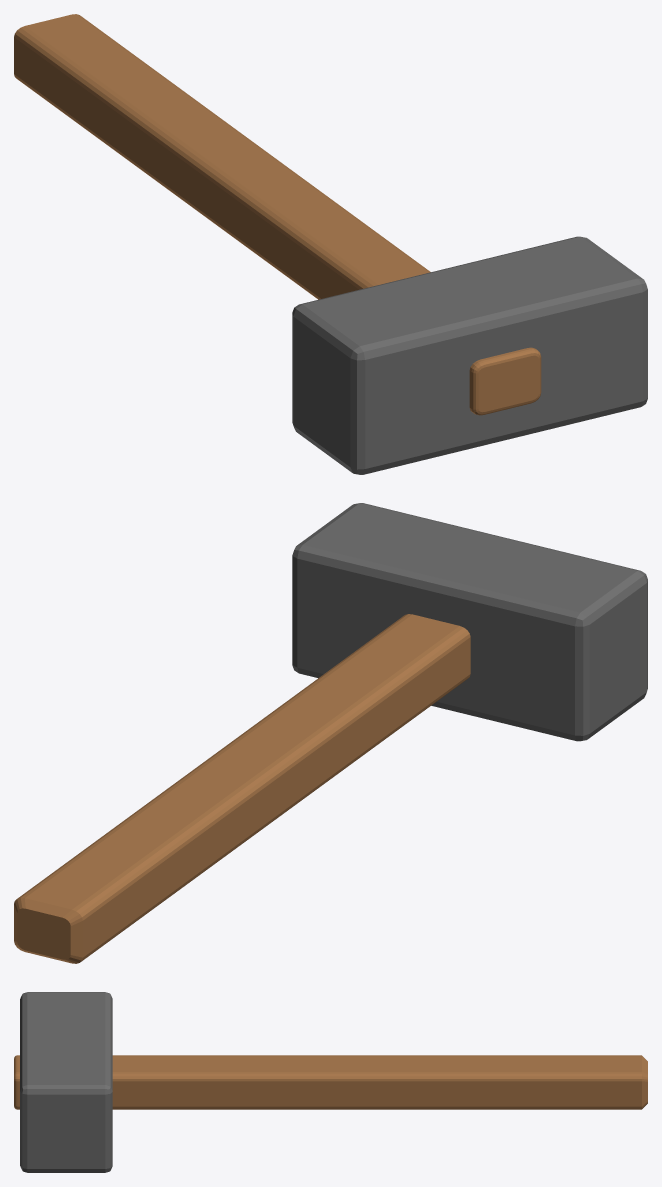
File: Hammer_02.fbx
3 renders of one model, top to bottom at view 1: azimuth 30°, elevation 25°; view 2: azimuth 150°, elevation 25°; view 3: azimuth 270°, elevation 25°, orthographic. The views are drawn at different scales.
Parts seen in each view (by area): view 1: Hammer_02_Top, Hammer_02_Handle; view 2: Hammer_02_Top, Hammer_02_Handle; view 3: Hammer_02_Handle, Hammer_02_Top.
Boxes of the visible parts, <box> form: Hammer_02_Top: <box>292,236,647,474</box>; Hammer_02_Handle: <box>14,14,541,415</box>; Hammer_02_Top: <box>292,503,647,741</box>; Hammer_02_Handle: <box>14,614,470,963</box>; Hammer_02_Handle: <box>14,1055,647,1109</box>; Hammer_02_Top: <box>20,992,112,1172</box>.
Bounding box in the file's own units: 38.08 × 15.79 × 103.
